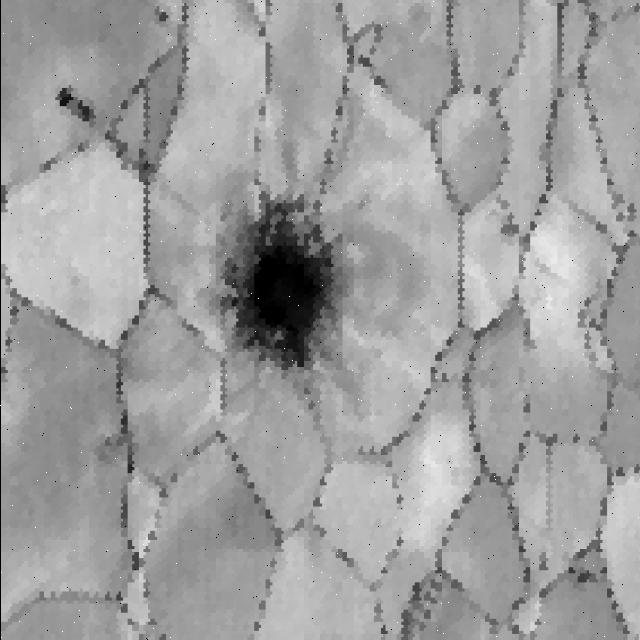good_void: (206, 193, 347, 387), (49, 77, 100, 132), (574, 294, 604, 352), (90, 426, 126, 467), (492, 200, 521, 240), (535, 545, 552, 581), (147, 4, 170, 29), (574, 568, 597, 591)
